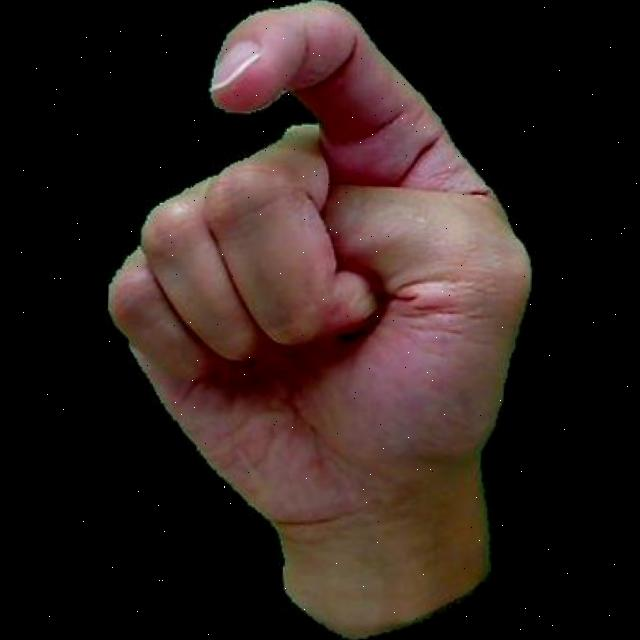x: (88, 0, 547, 640)
